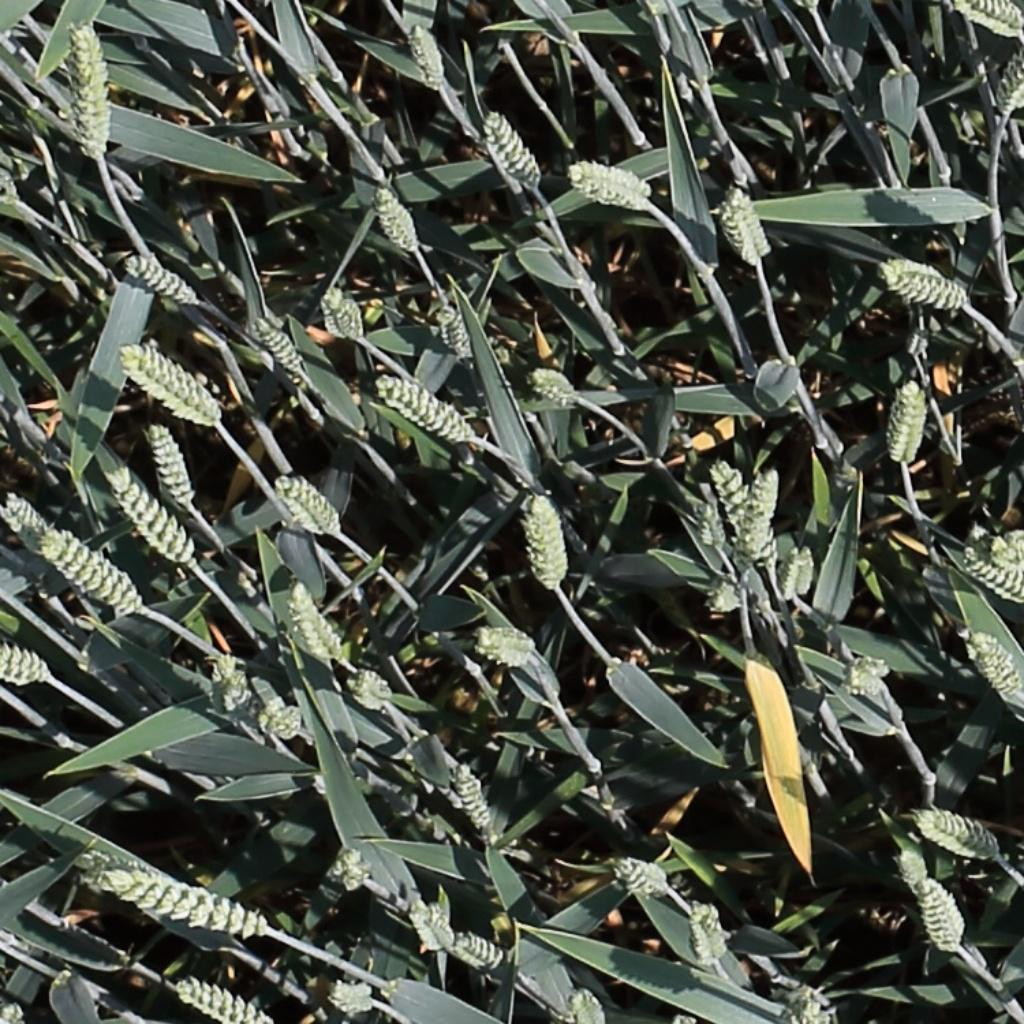0-0: (92, 841, 268, 939), (34, 527, 146, 617), (106, 471, 197, 567), (73, 24, 126, 164), (122, 344, 217, 421), (376, 374, 476, 442), (711, 454, 761, 566), (286, 580, 345, 670), (483, 105, 544, 189), (146, 419, 197, 517), (370, 177, 424, 258), (966, 630, 1024, 704), (274, 473, 341, 537), (527, 490, 567, 595), (249, 311, 309, 380), (727, 181, 775, 267), (918, 873, 965, 958), (176, 978, 266, 1022), (917, 813, 999, 860), (125, 253, 199, 304), (451, 759, 498, 839), (883, 264, 969, 307), (752, 462, 783, 572), (406, 17, 450, 94), (971, 548, 1024, 610), (980, 47, 1024, 120), (891, 375, 925, 468), (211, 648, 253, 722), (320, 279, 367, 345), (570, 170, 651, 207), (405, 895, 451, 959), (434, 297, 477, 364), (690, 898, 730, 970), (773, 984, 842, 1024), (1, 490, 51, 543), (981, 507, 1024, 566), (476, 628, 542, 666), (574, 161, 651, 192), (706, 574, 761, 617), (0, 632, 47, 682), (610, 858, 671, 895), (959, 1, 1024, 35), (895, 843, 933, 899), (785, 542, 817, 607), (256, 699, 304, 740), (531, 368, 580, 405), (699, 495, 729, 555), (335, 847, 370, 898), (569, 981, 607, 1024), (329, 977, 377, 1010), (457, 936, 506, 965), (356, 671, 395, 704), (0, 151, 23, 206)
